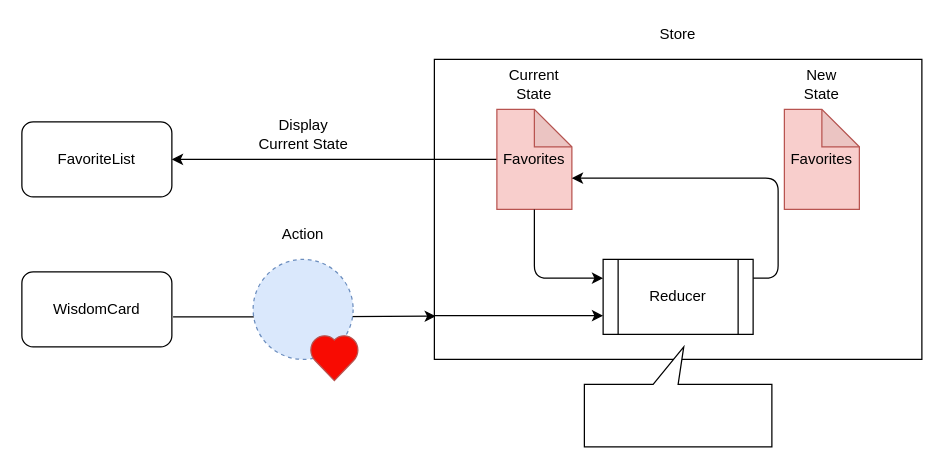
Image size: 944x469. Some labels were removed from this diagram. The shapes that lost their labels are listed below. From the top down, each one's box as (x1, y1, x2, y2) in pixels, then its label:
(252, 258, 353, 359): Add a New Favorite
(583, 346, 772, 447): Adds new Favorite to old Favorite List
